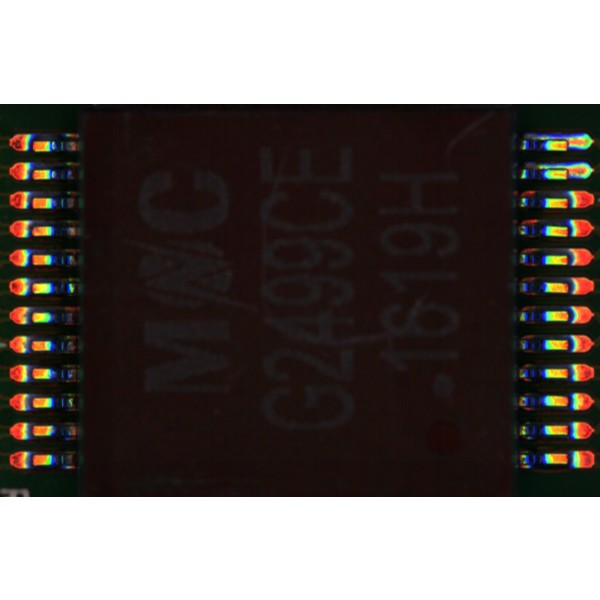Bad_qiaojiao: (528, 162, 569, 171), (528, 134, 565, 140)
